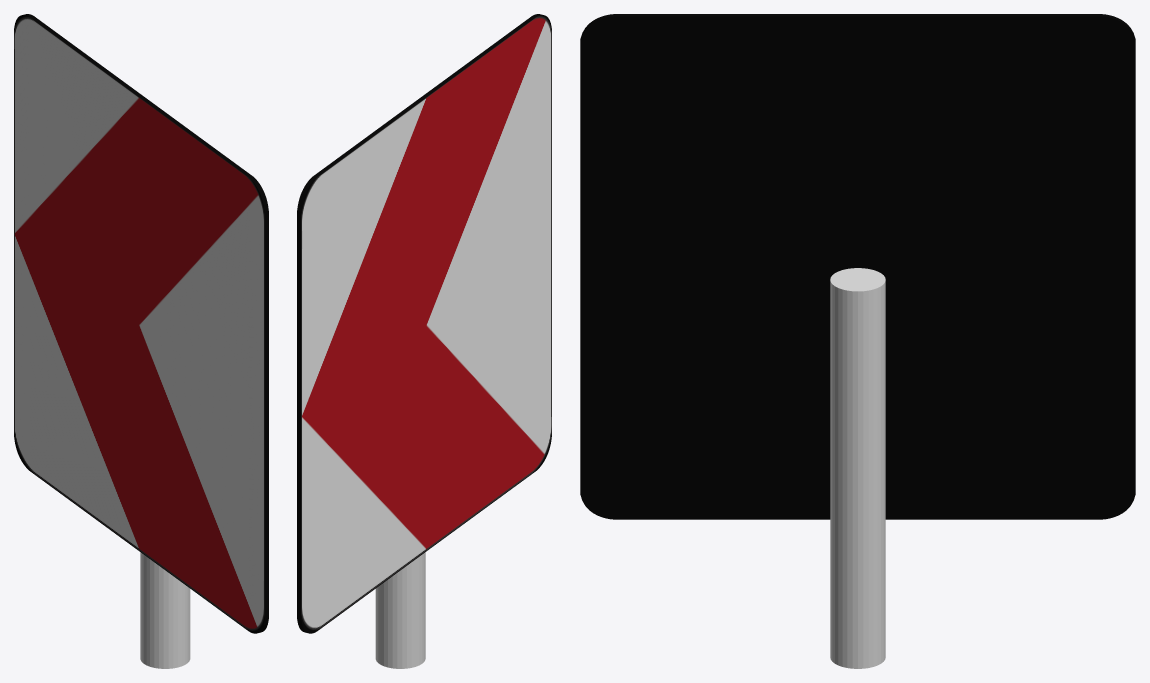
File: sharp_turn_left_small_sign.dae
The picture shows the model from 3 angles, left to right: view 1: azimuth 30°, elevation 25°; view 2: azimuth 150°, elevation 25°; view 3: azimuth 270°, elevation 25°; orthographic projection. The views are drawn at different scales.
Parts seen in each view (by area): view 1: path3678, Cylinder; view 2: path3678, Cylinder; view 3: path3678, Cylinder.
Part boxes in pixels (x1=…): path3678: x1=14, y1=14, x2=268, y2=633; Cylinder: x1=140, y1=552, x2=190, y2=668; path3678: x1=297, y1=14, x2=551, y2=633; Cylinder: x1=375, y1=552, x2=425, y2=668; path3678: x1=580, y1=14, x2=1135, y2=519; Cylinder: x1=830, y1=268, x2=885, y2=668.
Bounding box in the file's own units: 0.011 × 0.1 × 0.125.
Materials: 3 (2 with a texture image).
